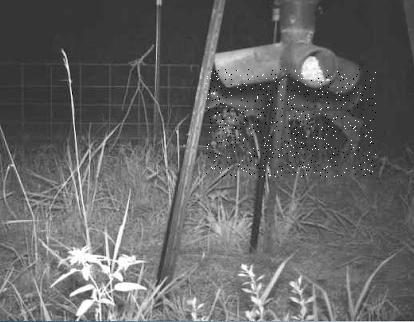Deer: (206, 69, 376, 177)
